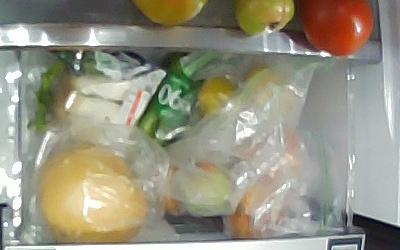pear_vinyl: (39, 143, 145, 244)
tangerine_vinyl: (197, 74, 237, 115)
